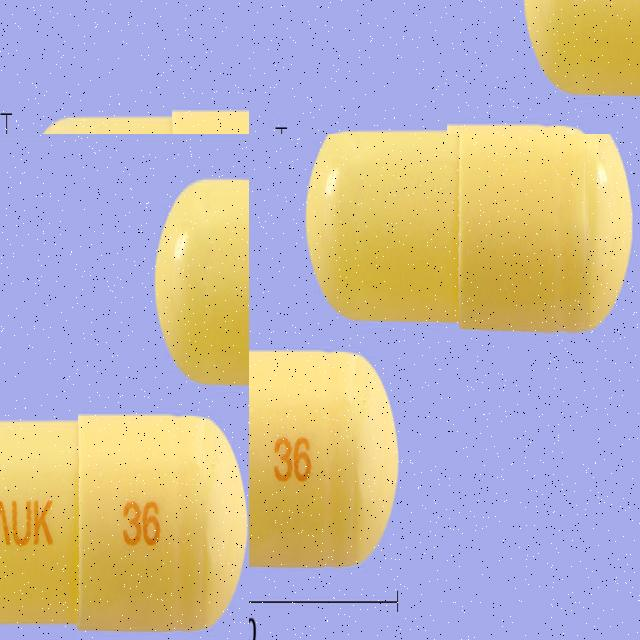Ausfixime Cap: (304, 134, 636, 334), (249, 345, 401, 572)
Clao: (290, 62, 613, 134), (552, 0, 640, 134)
Claxin - 500mg: (0, 461, 249, 640)
